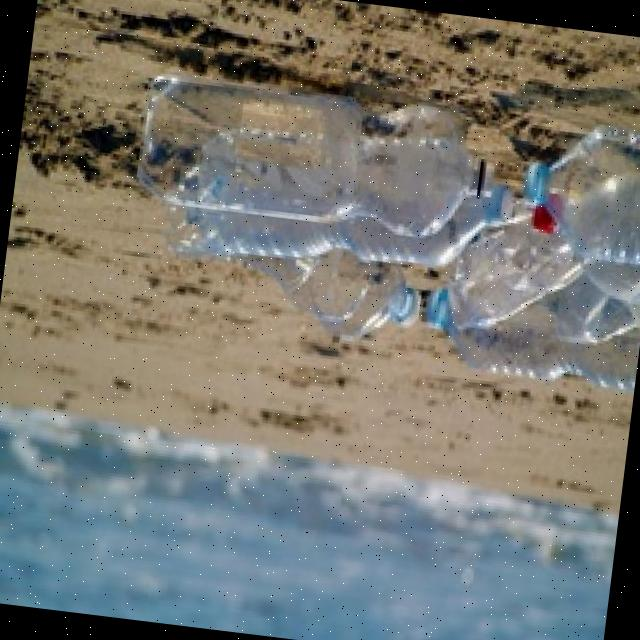bottle: (114, 42, 640, 396), (133, 338, 138, 342)
